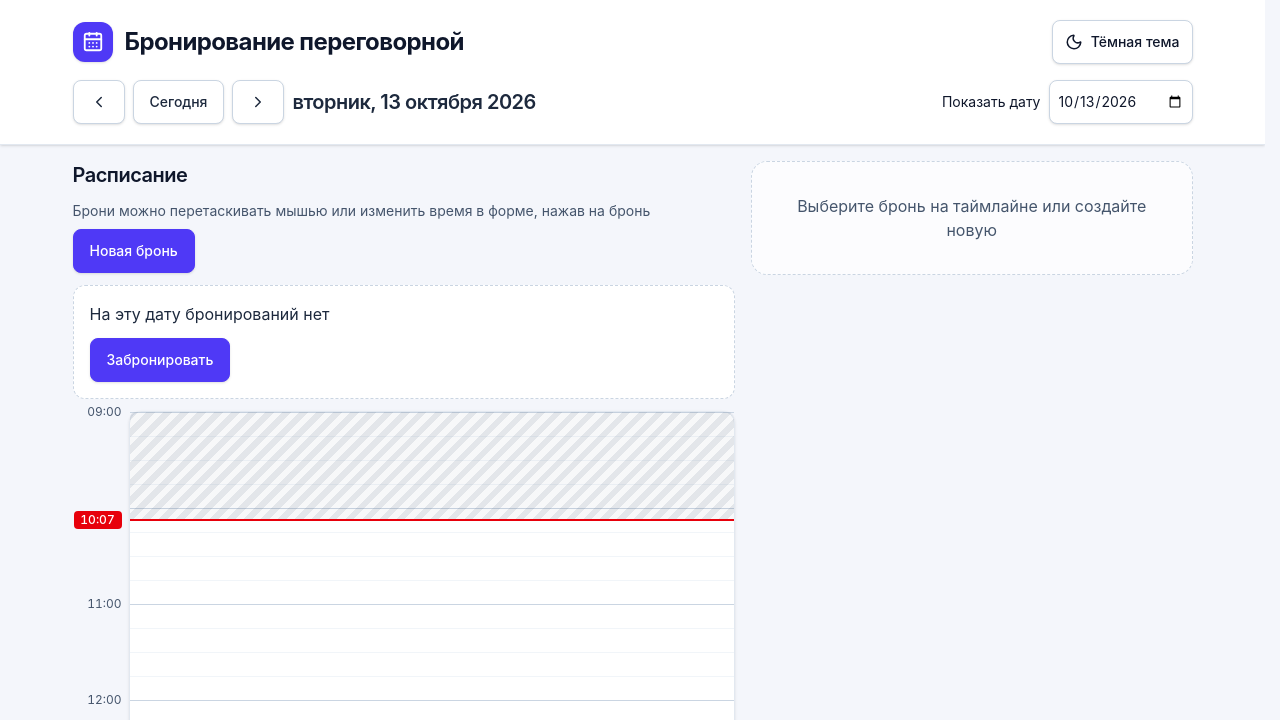
Scenario: 7. today with now = 10:07 › offers starts from 10:15 and shows the past hatch and the now line
This screenshot has width=1280, height=720.
Click the button "Новая бронь".
click(134, 251)  # box x1=72 y1=229 x2=195 y2=273
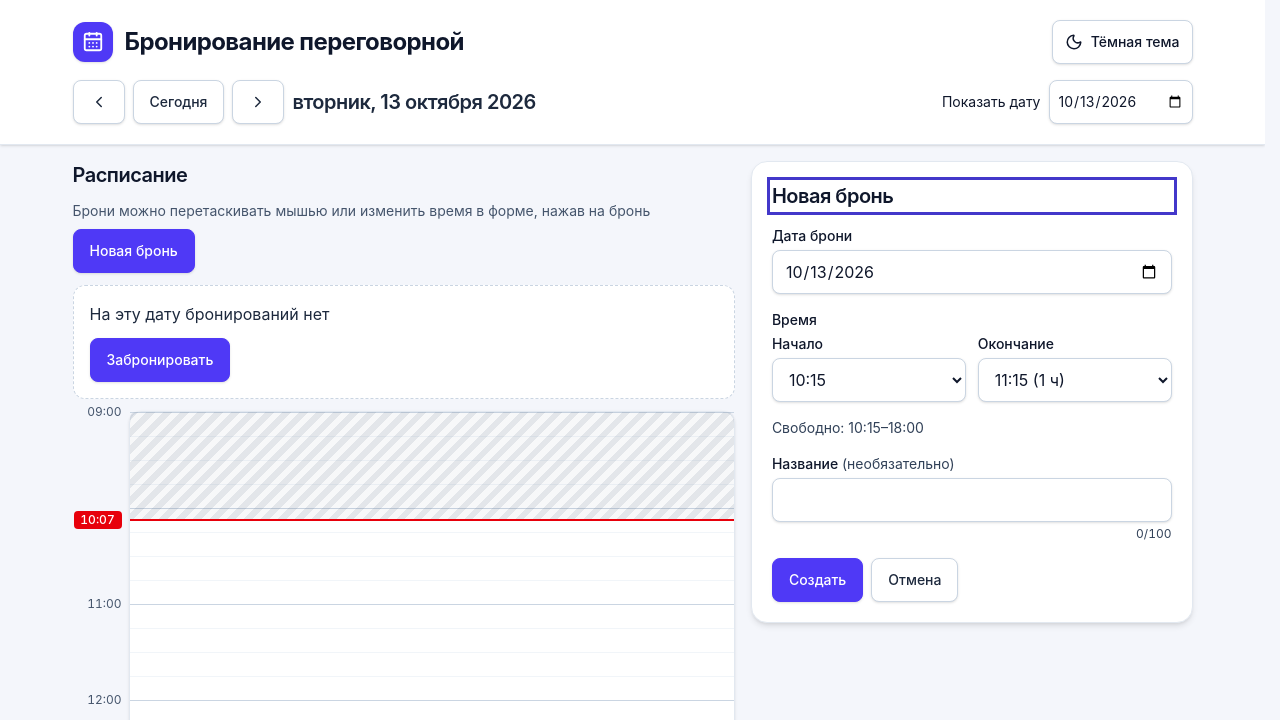
expect the element with test id "now-line" is shown: met, box x1=130 y1=519 x2=734 y2=521
expect the dropdown labelled "Начало" shows "10:15": met, box x1=772 y1=358 x2=966 y2=402
